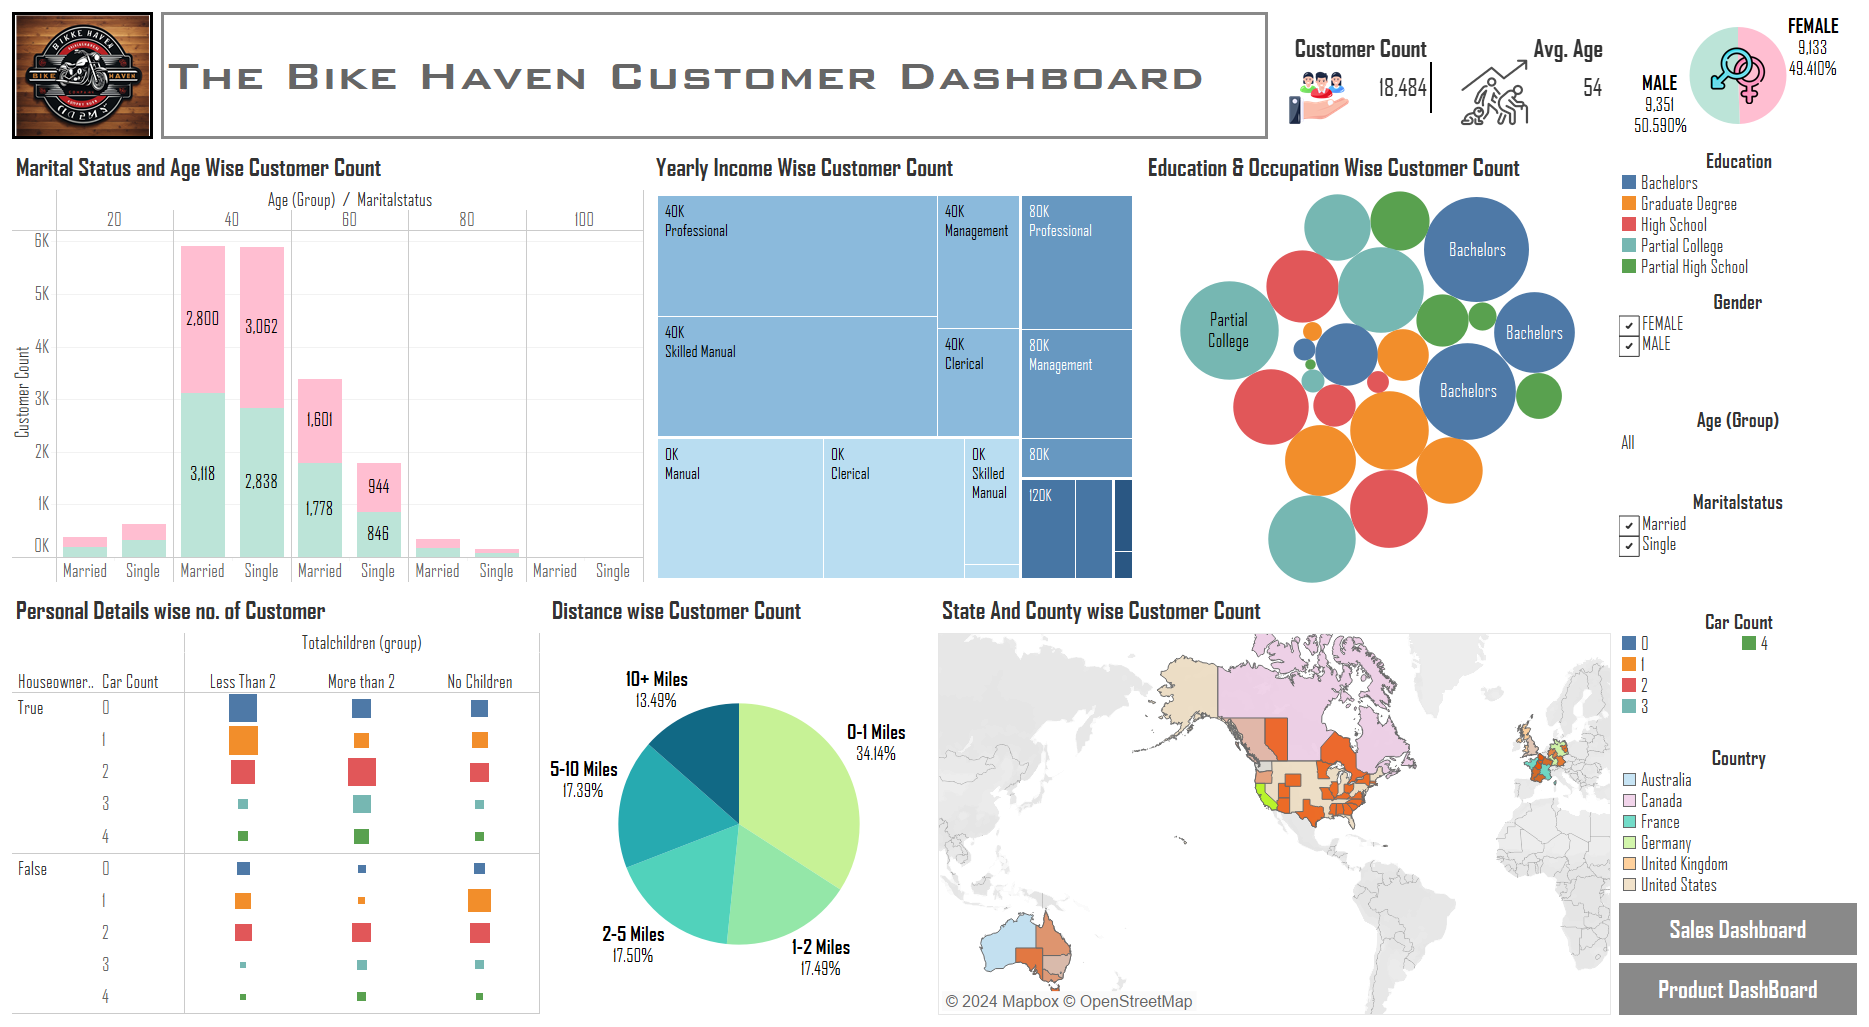

Layout of this report page (visuals, bound fields, positions):
{"tool":"tableau","page":{"name":"Customer Dashboard","canvas":[1000,1000],"units":"permille","ordinal":0},"visuals":[{"type":"dashboard-object","box":[4.7,10,79.6,130.5]},{"type":"text","box":[84.4,10,582.2,130.5]},{"type":"worksheet","title":"Gender","mark":"Pie","box":[863.9,10,131.4,130.5]},{"type":"worksheet","title":"KPI(Customer)","mark":"Automatic","box":[670.6,16.2,199.2,116.9]},{"type":"image","param":"Image/Age.png","box":[775.5,39.8,41.8,93.3]},{"type":"image","param":"Image/Gender.png","box":[911.2,45.8,37.5,55.5]},{"type":"image","param":"Image/Customer.png","box":[677.1,58.5,46.6,69.7]},{"type":"worksheet","title":"Marital Status and Age Wise Customer Count","mark":"Automatic","rows":["customerkey (Customer_details.csv)"],"cols":["Age (bin)","maritalstatus"],"box":[4.7,140.4,341.9,430.2]},{"type":"worksheet","title":"Yearly Income ","mark":"Automatic","box":[346.6,140.4,263.4,430.2]},{"type":"worksheet","title":"Education & Occupation Wise Customer Count","mark":"Circle","box":[610,140.4,253.9,430.2]},{"type":"legend","title":"Education & Occupation Wise Customer Count","param":"[federated.0kbmwvk0wkv6iw1gvr4tc1mcakxt].[none:education:nk]","box":[863.9,140.4,131.4,118.6]},{"type":"filter","title":"Marital Status and Age Wise Customer Count","param":"[federated.0kbmwvk0wkv6iw1gvr4tc1mcakxt].[none:gender:nk]","box":[863.9,259,131.4,118.6]},{"type":"filter","title":"Marital Status and Age Wise Customer Count","param":"[federated.0kbmwvk0wkv6iw1gvr4tc1mcakxt].[none:Age (bin):ok]","box":[863.9,377.6,131.4,74.6]},{"type":"filter","title":"Marital Status and Age Wise Customer Count","param":"[federated.0kbmwvk0wkv6iw1gvr4tc1mcakxt].[none:maritalstatus:nk]","box":[863.9,452.3,131.4,118.6]},{"type":"worksheet","title":"Personal Details wise no. of Customer","mark":"Automatic","rows":["numbercarsowned"],"box":[4.7,570.6,286.4,419.4]},{"type":"worksheet","title":"Distance wise Customer Count","mark":"Pie","box":[291.1,570.6,208.6,419.4]},{"type":"worksheet","title":"State And County wise Customer Count","mark":"Multipolygon","box":[499.6,570.6,364.2,419.4]},{"type":"legend","title":"Personal Details wise no. of Customer","param":"[federated.0kbmwvk0wkv6iw1gvr4tc1mcakxt].[none:numbercarsowned:ok]","box":[863.9,570.9,131.4,134.9]},{"type":"legend","title":"State And County wise Customer Count","param":"[federated.0kbmwvk0wkv6iw1gvr4tc1mcakxt].[none:Country/Region:nk]","box":[863.9,705.8,131.4,134.9]},{"type":"dashboard-object","box":[863.9,840.8,131.4,74.6]},{"type":"dashboard-object","box":[863.9,915.4,131.4,74.6]}]}

Visuals, with their boxes on the dashboard's canvas, which has no fixed pixel size, in thousandths of its width and height (x1, y1, x2, y2). These are canvas units, not pixel positions in the 1869x1027 screenshot, which may show the page scaled, cropped or inside an application window:
dashboard-object: 5 10 84 140
text: 84 10 667 140
"Gender" worksheet (Pie marks): 864 10 995 140
"KPI(Customer)" worksheet: 671 16 870 133
image: 776 40 817 133
image: 911 46 949 101
image: 677 58 724 128
"Marital Status and Age Wise Customer Count" worksheet: 5 140 347 571
"Yearly Income " worksheet: 347 140 610 571
"Education & Occupation Wise Customer Count" worksheet (Circle marks): 610 140 864 571
"Education & Occupation Wise Customer Count" legend: 864 140 995 259
"Marital Status and Age Wise Customer Count" filter: 864 259 995 378
"Marital Status and Age Wise Customer Count" filter: 864 378 995 452
"Marital Status and Age Wise Customer Count" filter: 864 452 995 571
"Personal Details wise no. of Customer" worksheet: 5 571 291 990
"Distance wise Customer Count" worksheet (Pie marks): 291 571 500 990
"State And County wise Customer Count" worksheet (Multipolygon marks): 500 571 864 990
"Personal Details wise no. of Customer" legend: 864 571 995 706
"State And County wise Customer Count" legend: 864 706 995 841
dashboard-object: 864 841 995 915
dashboard-object: 864 915 995 990
